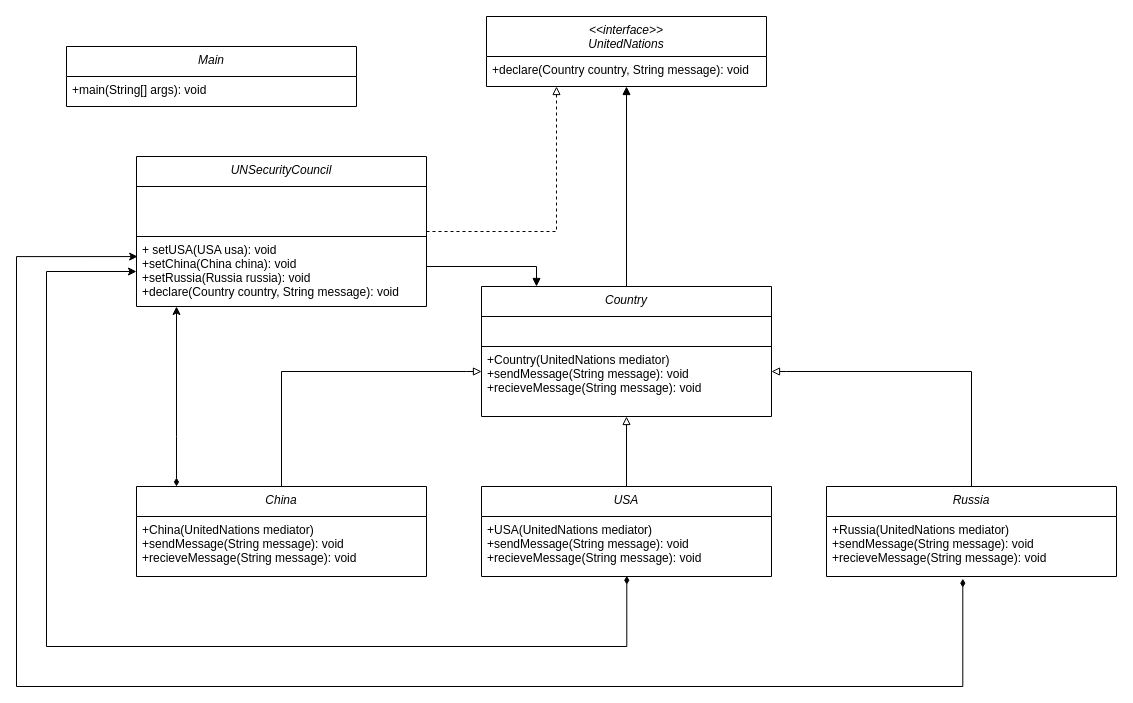
This 1133x703 diagram has some shape labels left out. Each missing label, with the centre of its shape:
"-medaitor: UnitedNations" goes at point (626, 331).
"-usa: USA -china: China -russia: Russia" goes at point (281, 211).
